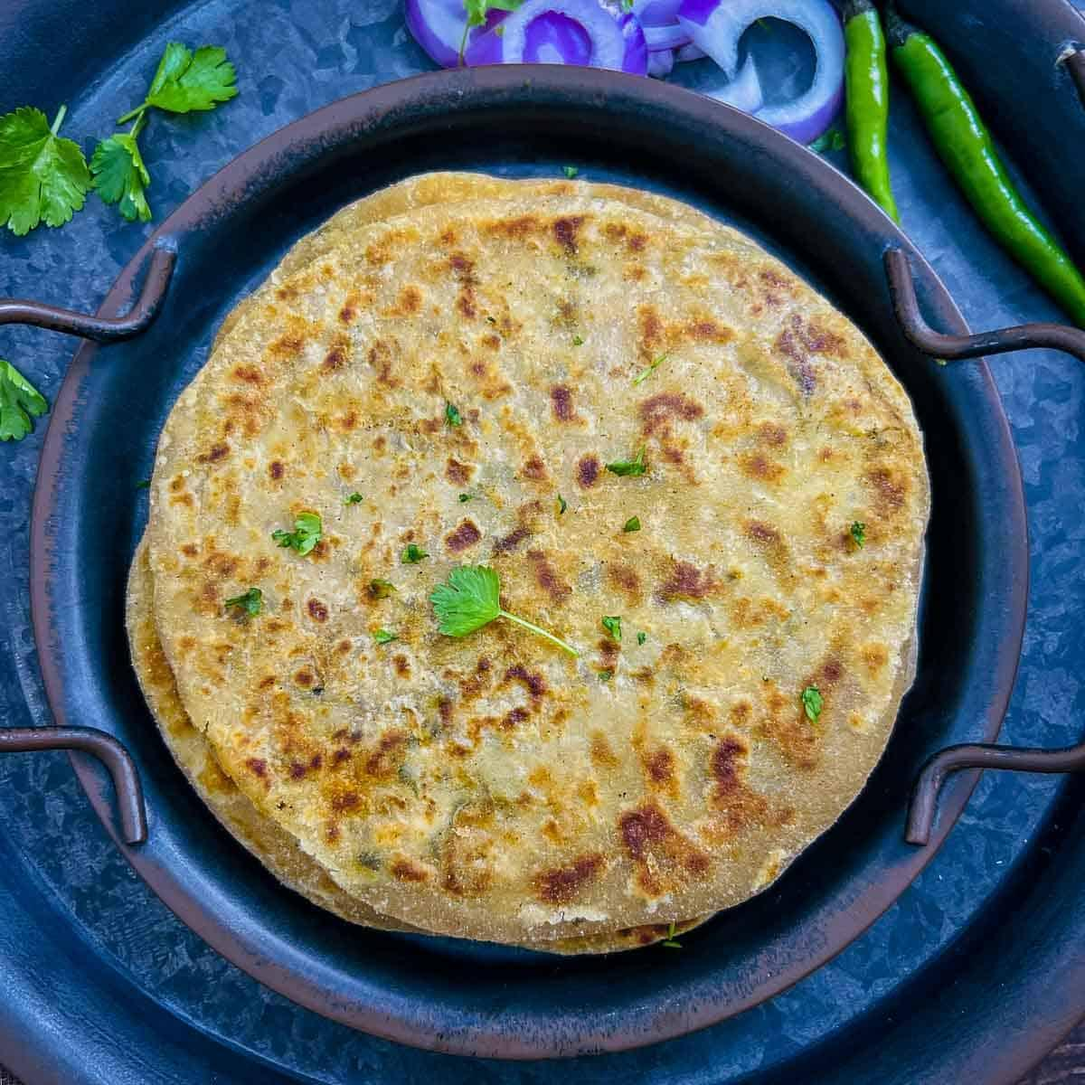paratha: (122, 185, 933, 999)
